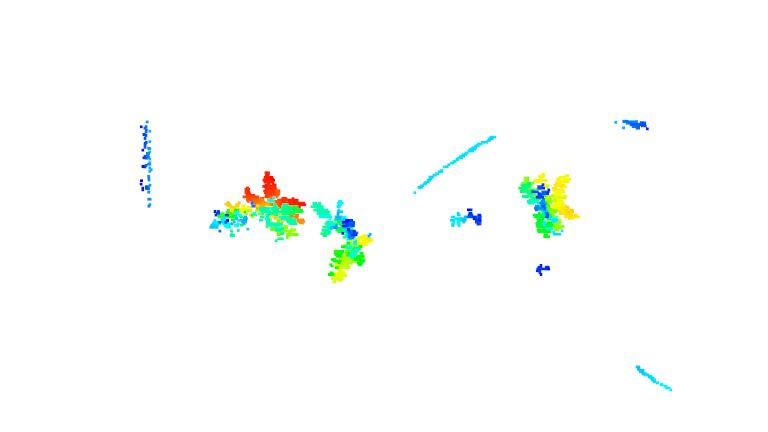chickpea: (206, 173, 309, 240), (309, 196, 376, 280), (517, 170, 580, 238), (449, 206, 485, 227)
